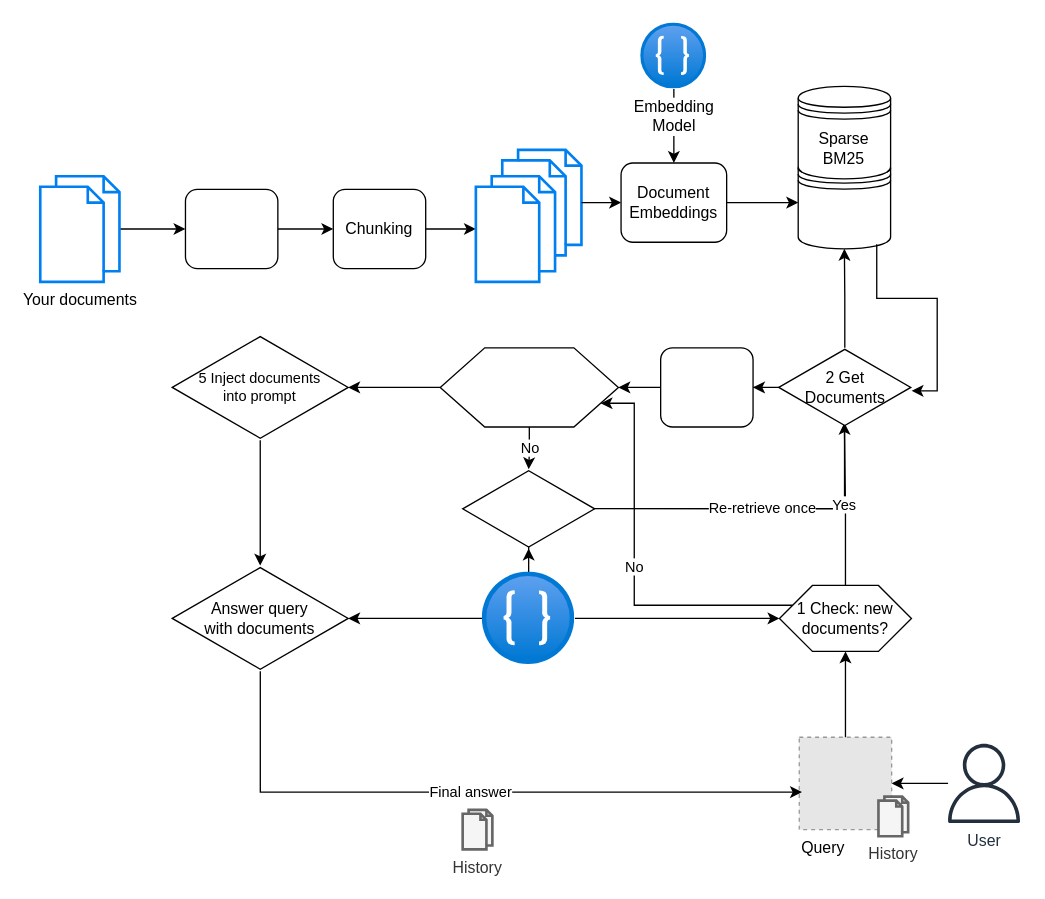
This 1045x899 diagram has some shape labels left out. Grey dashed boxes stand in for pictures. The box of each missing label's shape, as (x1, y1, x2, y2) in pixels:
3 Check: answer in documents?: (439, 346, 618, 427)
4 Rewrite Query: (461, 468, 595, 548)
Chat LLM: (482, 572, 574, 664)
Chunks: (474, 174, 556, 282)
Loaders: (184, 188, 278, 269)
Rerank: (659, 346, 753, 427)
Vector DB: (797, 155, 891, 249)
